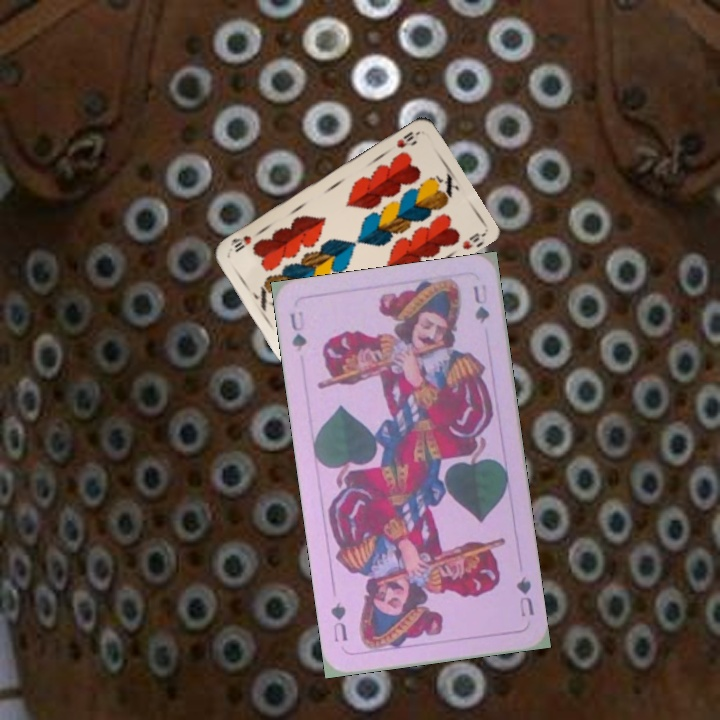GU: (512, 572, 537, 620), (286, 307, 309, 354)
H10: (392, 127, 416, 151)
